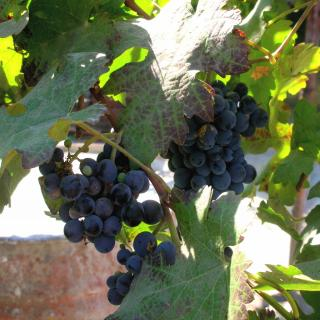Grape: (38, 140, 176, 305), (162, 79, 271, 218)
